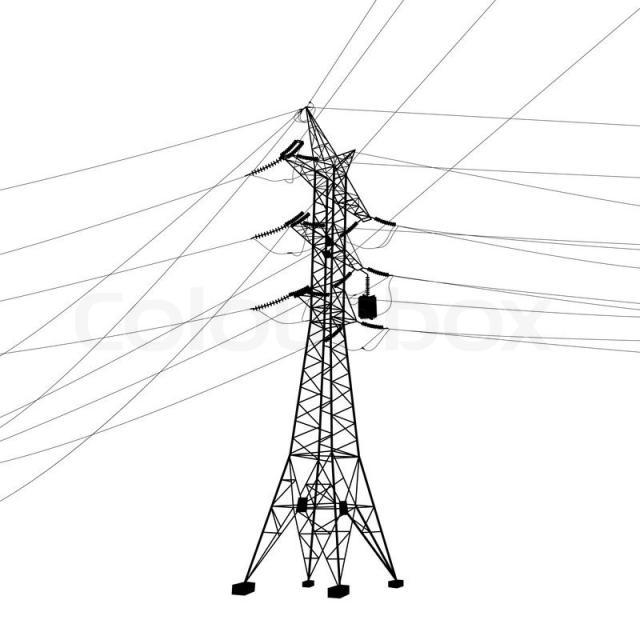non-critical vegetation: (228, 100, 408, 598)
